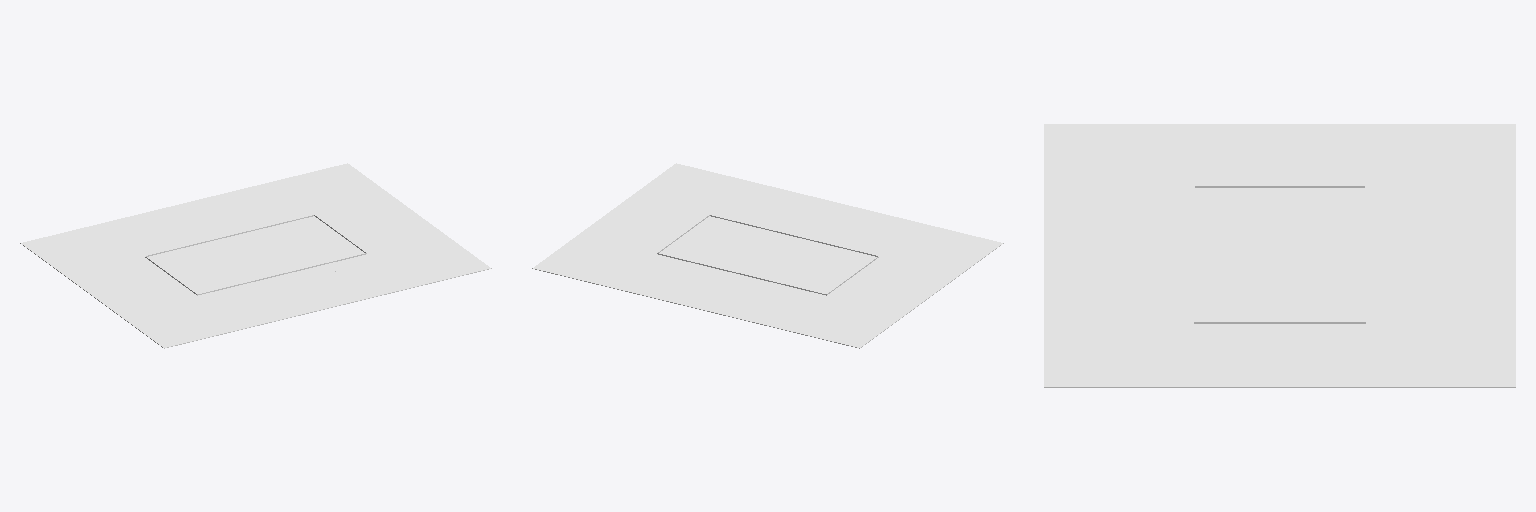
URDF robot description (Main arena):
<?xml version="1.0" encoding="utf-8"?>
<!-- This URDF was automatically created by SolidWorks to URDF Exporter! Originally created by Stephen Brawner (brawner@gmail.com) 
     Commit Version: 1.6.0-4-g7f85cfe  Build Version: 1.6.7995.38578
     For more information, please see http://wiki.ros.org/sw_urdf_exporter -->
<robot
  name="Main arena">
  <link
    name="base_link">
    <inertial>
      <origin
        xyz="7.5 4 -0.099529"
        rpy="0 0 0" />
      <mass
        value="33542" />
      <inertia
        ixx="1317900"
        ixy="4307.3"
        ixz="-4.1656"
        iyy="2331200"
        iyz="0.52557"
        izz="3645500" />
    </inertial>
    <visual>
      <origin
        xyz="0 0 0"
        rpy="0 0 0" />
      <geometry>
        <mesh
          filename="package://Main arena/meshes/base_link.STL" />
      </geometry>
      <material
        name="">
        <color
          rgba="1 1 1 1" />
      </material>
    </visual>
    <collision>
      <origin
        xyz="0 0 0"
        rpy="0 0 0" />
      <geometry>
        <mesh
          filename="package://Main arena/meshes/base_link.STL" />
      </geometry>
    </collision>
  </link>
</robot>

--- Render facts (derived) ---
3 views of the same robot in one strip: view 1: azimuth 30°, elevation 25°; view 2: azimuth 150°, elevation 25°; view 3: azimuth 270°, elevation 25° (orthographic).
Model Main arena with 1 links and 0 joints (none), rooted at base_link, posed all joints at 0.
Links seen in each view (by area): view 1: base_link; view 2: base_link; view 3: base_link.
Boxes of the visible links, x1,y1,x2,y2 form: base_link: (20, 163, 491, 348); base_link: (532, 163, 1003, 348); base_link: (1044, 124, 1515, 387).
Size in the robot's own frame: 29.1 by 22.1 by 0.15 metres.
Meshes: 1 distinct files referenced, 1 mesh visuals loaded (1 binary STL).
